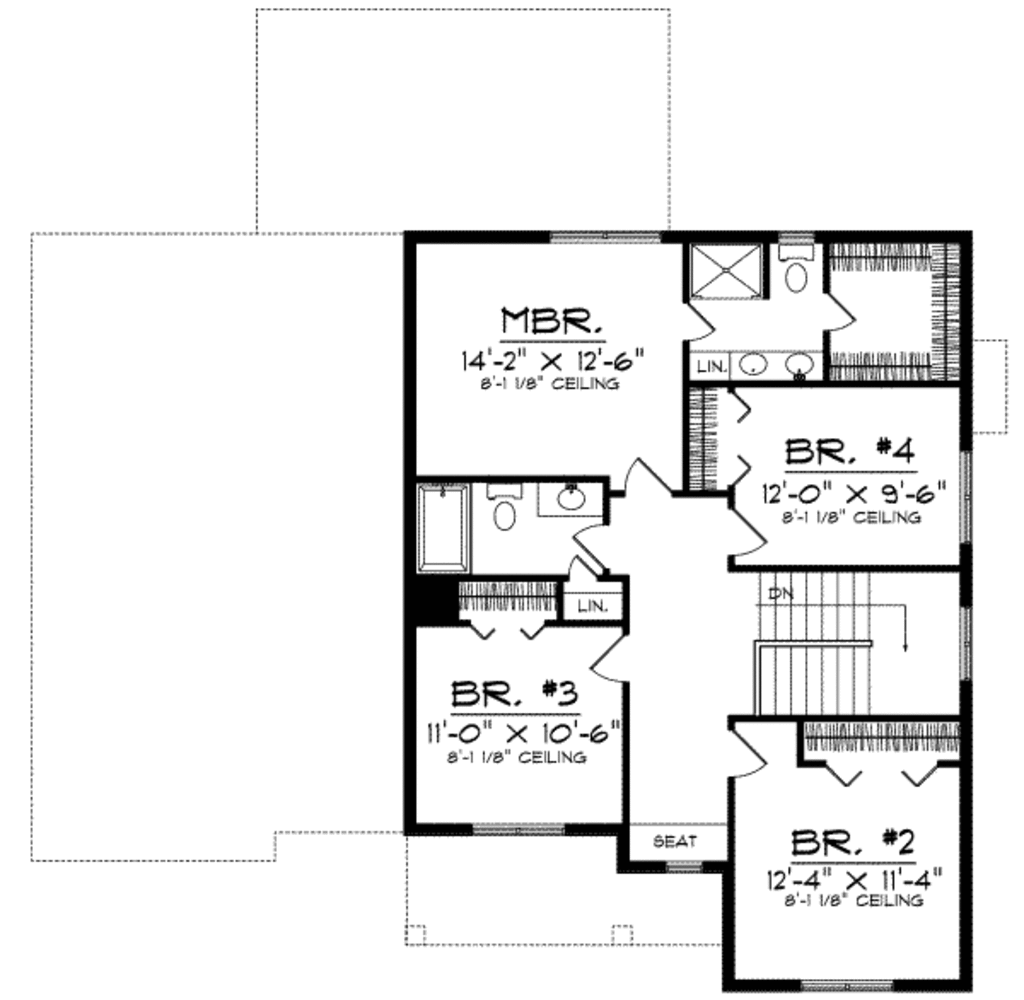door: (570, 524, 625, 577), (724, 497, 769, 553), (590, 628, 635, 680), (728, 728, 769, 780), (620, 454, 670, 496), (676, 300, 720, 346), (820, 293, 860, 328)
large_sink: (770, 234, 822, 303), (487, 477, 532, 533)
small_sink: (725, 348, 823, 383), (538, 478, 602, 515)
stairs: (732, 571, 949, 721)
tub: (422, 484, 473, 574)
window: (541, 221, 666, 250), (957, 448, 982, 545), (472, 818, 561, 843), (957, 606, 981, 680), (661, 853, 708, 881), (799, 978, 888, 989)
